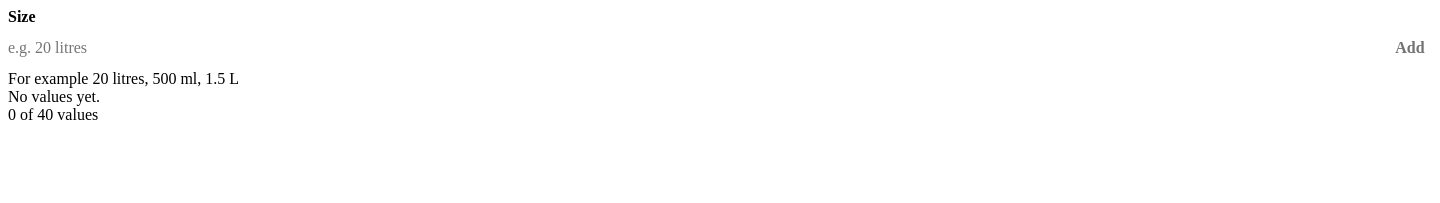
Test: water (volume) › adds 5, 10 and 20 litres in the fixture's words and previews them
Type "5 litres" into the field.
click(698, 48); type("5 litres")  # box [8,26,1388,70]
Then press Enter
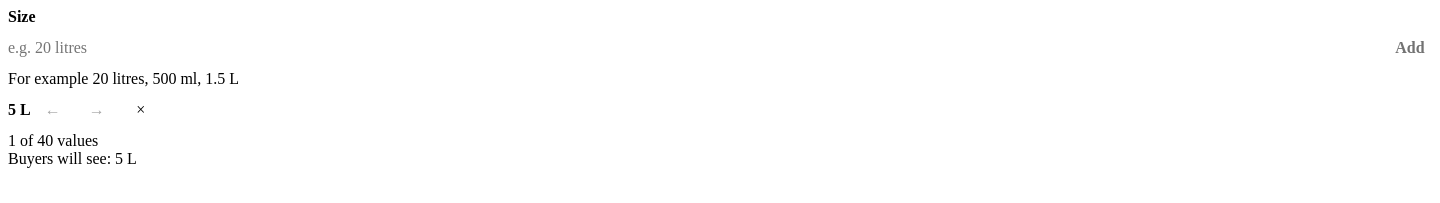
Type "10 L" into the field.
click(698, 48); type("10 L")  # box [8,26,1388,70]
Then press Enter
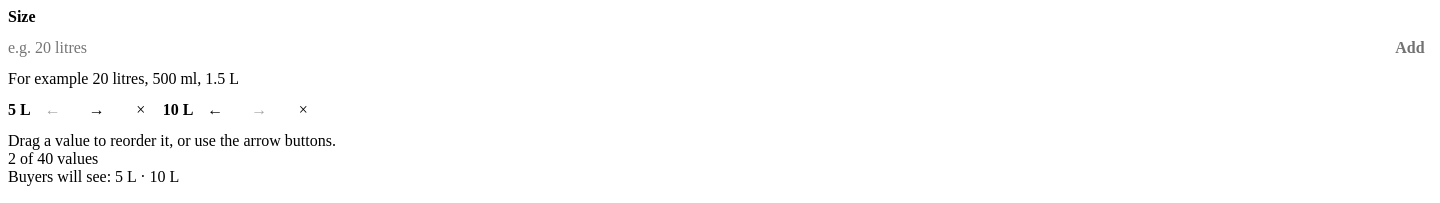
Type "20 l" into the field.
click(698, 48); type("20 l")  # box [8,26,1388,70]
Then press Enter
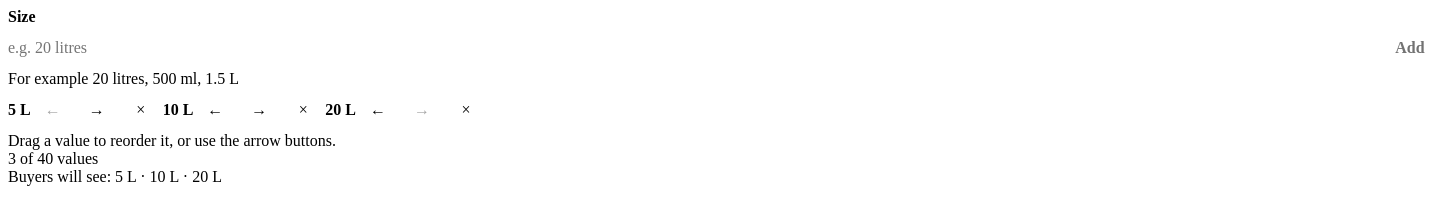
Now the element with test id "scale-preview" shows "5 L · 10 L · 20 L", box [115,168,222,185]
